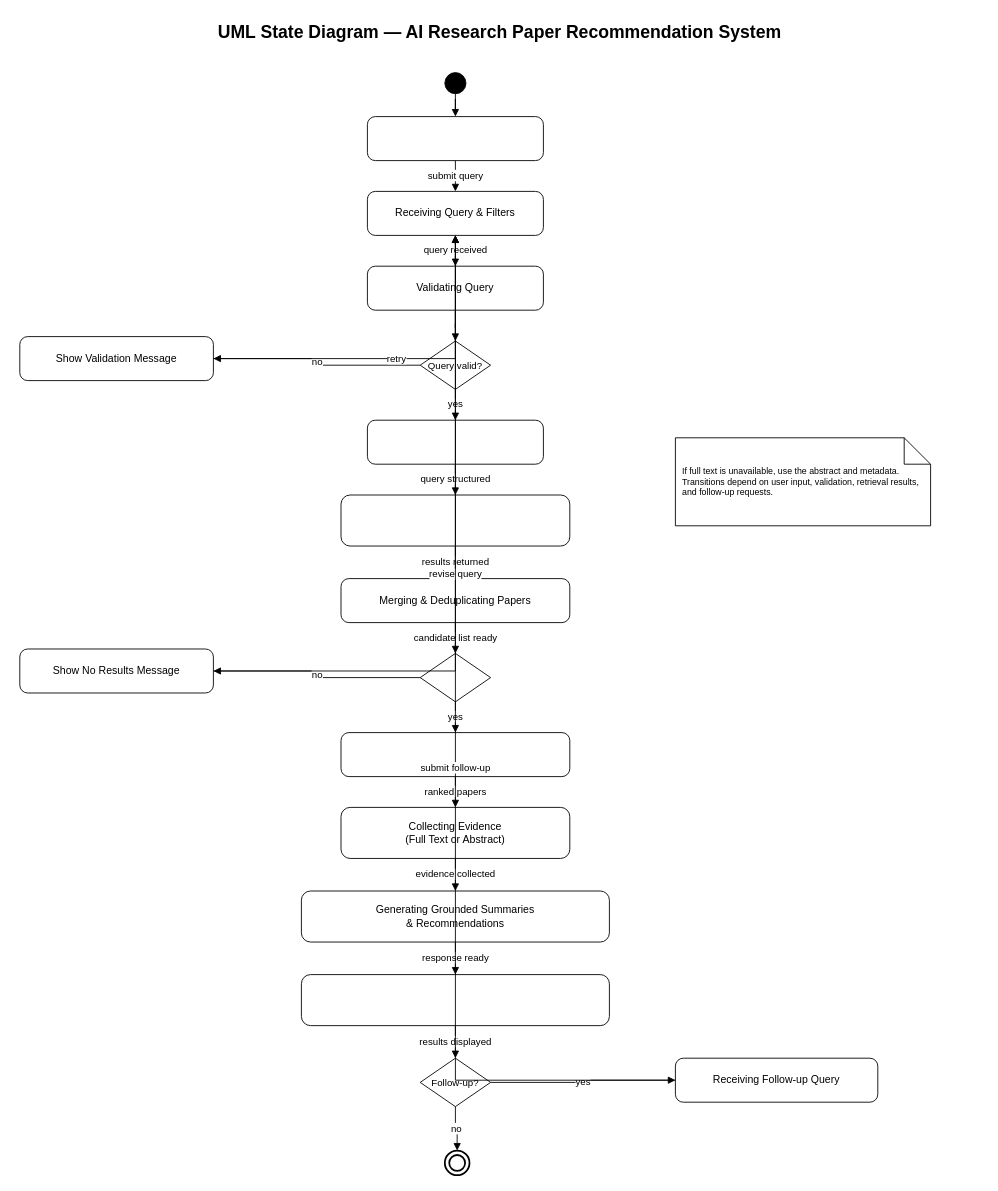
Image size: 998x1191. Some labels were removed from this diagram. Here are the shapes that lost their labels. From the top down, the box of each, then its label:
(367, 116, 543, 161): Idle / Waiting for Query
(367, 419, 543, 464): Understanding Query
(340, 494, 570, 546): Hybrid Retrieval (BM25 + Vector Search)
(419, 653, 491, 702): Papers found?
(340, 732, 570, 777): Scoring & Reranking Papers
(301, 974, 609, 1026): Displaying Papers, Explanations & Citations
